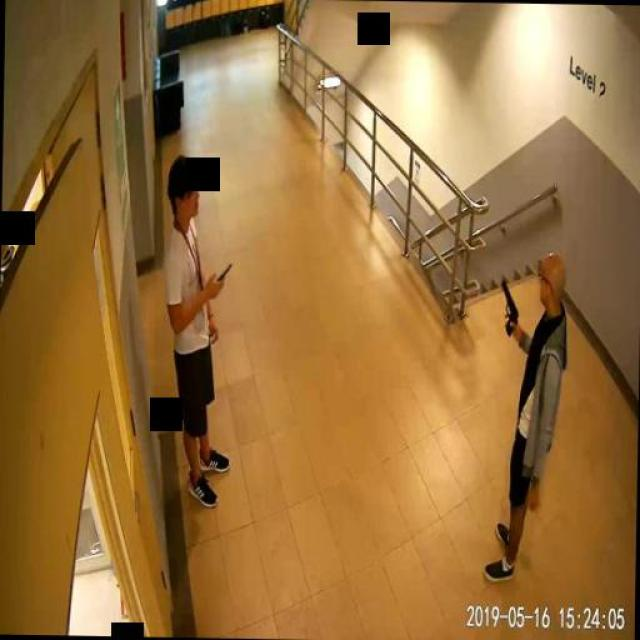gun: (499, 276, 519, 336)
